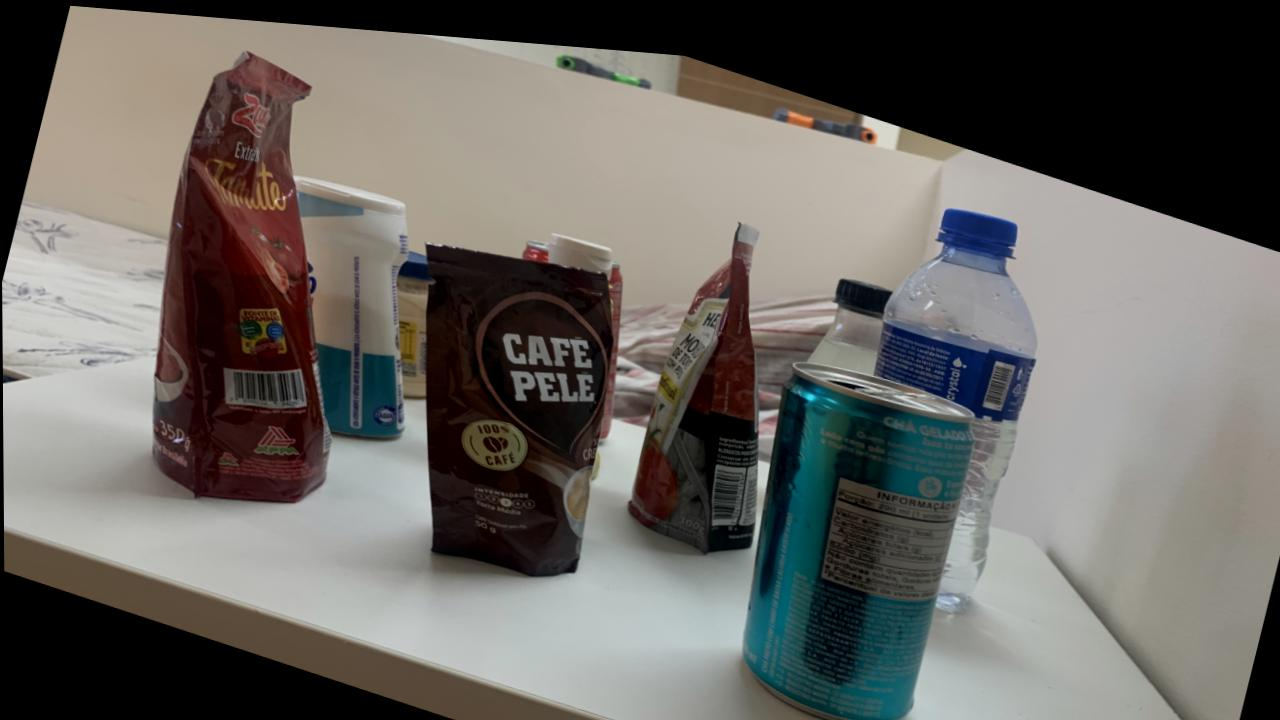Cleaner-Cleanup_Items: (294, 171, 409, 431)
Coffee-Pantry_Items: (425, 236, 613, 567)
Coke-Drinks: (599, 251, 624, 429), (521, 231, 550, 254)
Mayonnaise-Pantry_Items: (396, 244, 433, 391)
Mustard-Pantry_Items: (627, 211, 758, 541)
Soda-Drinks: (807, 264, 892, 360)
Tea-Drinks: (741, 349, 974, 712)
Tomato_Sauce-Pantry_Items: (150, 48, 331, 497)
Water_Bottle-Drinks: (873, 192, 1037, 594)
